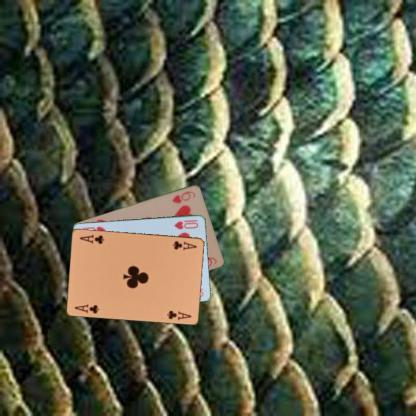10h: (172, 217, 199, 231)
6h: (170, 188, 197, 204)
Ac: (170, 238, 198, 251), (72, 302, 101, 314)
